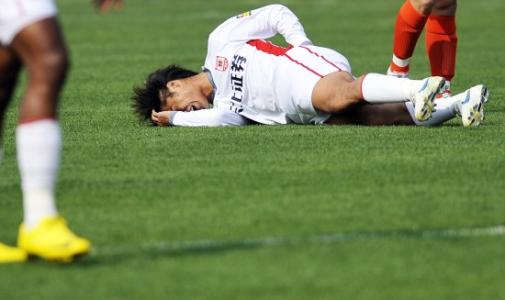fall: (138, 5, 482, 131)
